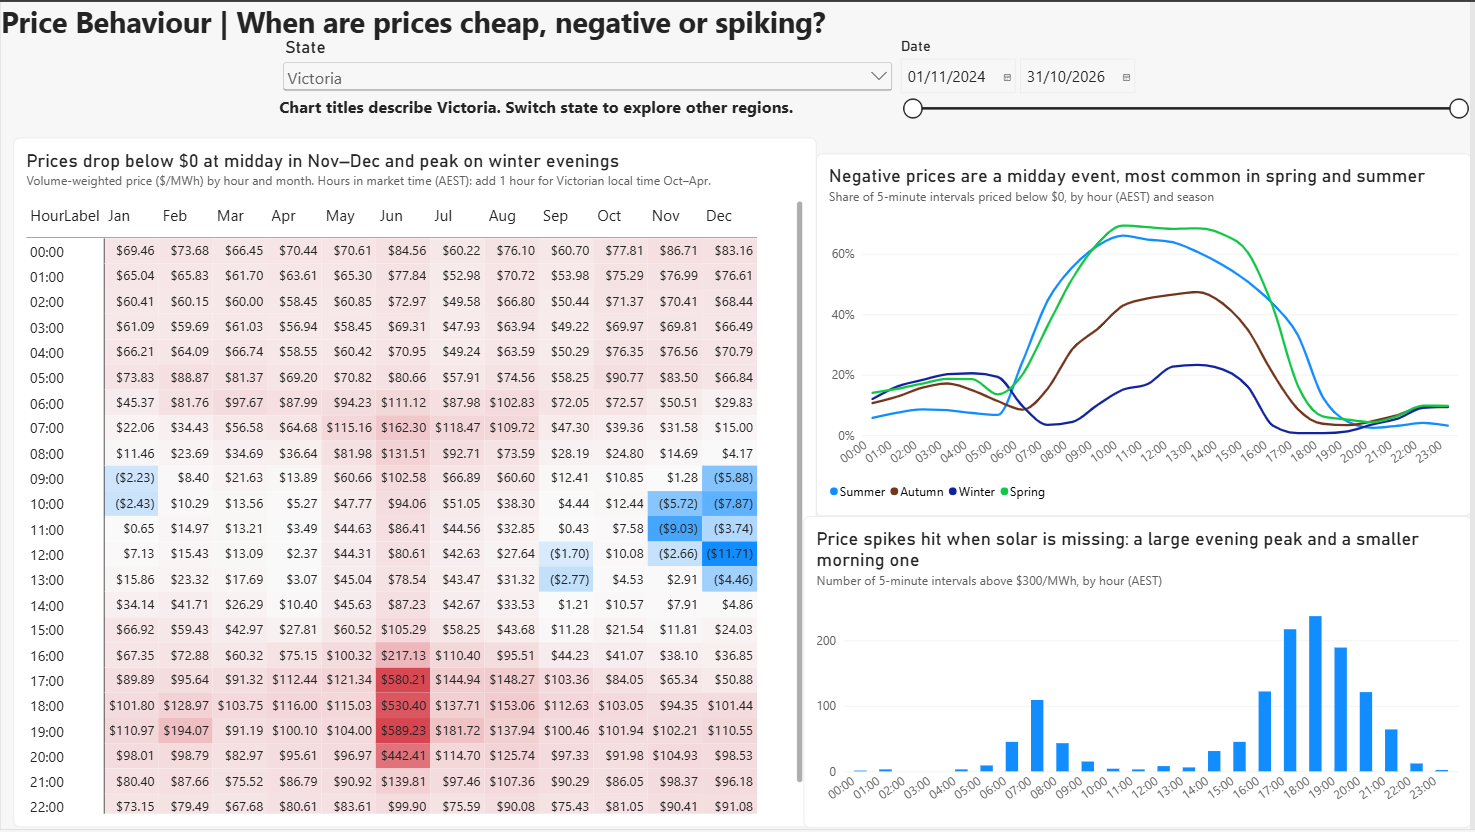

Layout of this report page (visuals, bound fields, positions):
{"tool":"powerbi","page":{"name":"Price Behaviour","canvas":[1920,1080],"ordinal":2},"visuals":[{"type":"textbox","box":[0,0,1177.2,64.7],"z":0},{"type":"slicer","fields":{"Values":["DimRegion.State"]},"box":[362.8,45.9,805.6,75.6],"z":1000,"group":"g1"},{"type":"slicer","fields":{"Values":["DimDate.Date"]},"box":[1167.8,45.9,753.1,152.1],"z":1000},{"type":"pivotTable","title":"Prices drop below $0 at midday in Nov–Dec and peak on winter evenings","fields":{"Columns":["DimDate.Month"],"Rows":["DimTime.HourLabel"],"Values":["_Measures.VWAP"]},"box":[16.7,177.2,1048.9,900.8],"z":2000},{"type":"lineChart","title":"Negative prices are a midday event, most common in spring and summer","fields":{"Category":["DimTime.HourLabel"],"Series":["DimDate.Season"],"Y":["_Measures.Negative Price %"]},"box":[1065,197.8,855.8,473.5],"z":3000},{"type":"clusteredColumnChart","title":"Price spikes hit when solar is missing: a large evening peak and a smaller morning one","fields":{"Category":["DimTime.HourLabel"],"Y":["_Measures.Spike Intervals"]},"box":[1047.9,671.3,872.9,407],"z":4000},{"type":"group","id":"g1","title":"Group 1","box":[362.8,45.9,804.9,108.4],"z":5000},{"type":"textbox","box":[362.8,121.5,805.6,32.7],"z":10000,"group":"g1"}]}

Visuals, with their boxes in screenshot pixels (x1, y1, x2, y2), scaled from the page's 1920x1080 canvas onto the 1475x832 screenshot:
textbox: crop(0, 0, 904, 50)
slicer - DimRegion.State: crop(279, 35, 898, 94)
slicer - DimDate.Date: crop(897, 35, 1474, 153)
"Prices drop below $0 at midday in Nov–Dec and peak on winter evenings" pivotTable: crop(13, 137, 819, 830)
"Negative prices are a midday event, most common in spring and summer" lineChart: crop(818, 152, 1474, 517)
"Price spikes hit when solar is missing: a large evening peak and a smaller morning one" clusteredColumnChart: crop(805, 517, 1474, 831)
"Group 1" group: crop(279, 35, 897, 119)
textbox: crop(279, 94, 898, 119)
